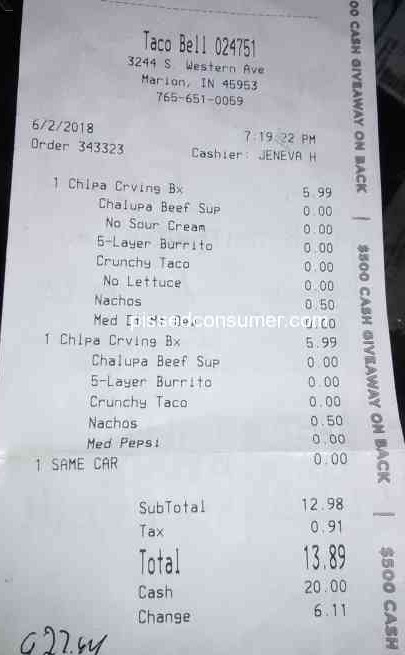Taco Bell: (135, 23, 212, 57)
